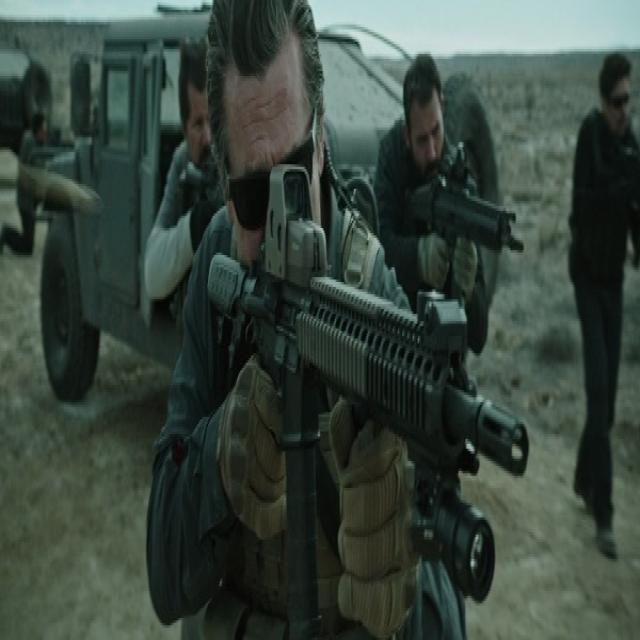rifle: (207, 169, 538, 640), (414, 144, 530, 265)
